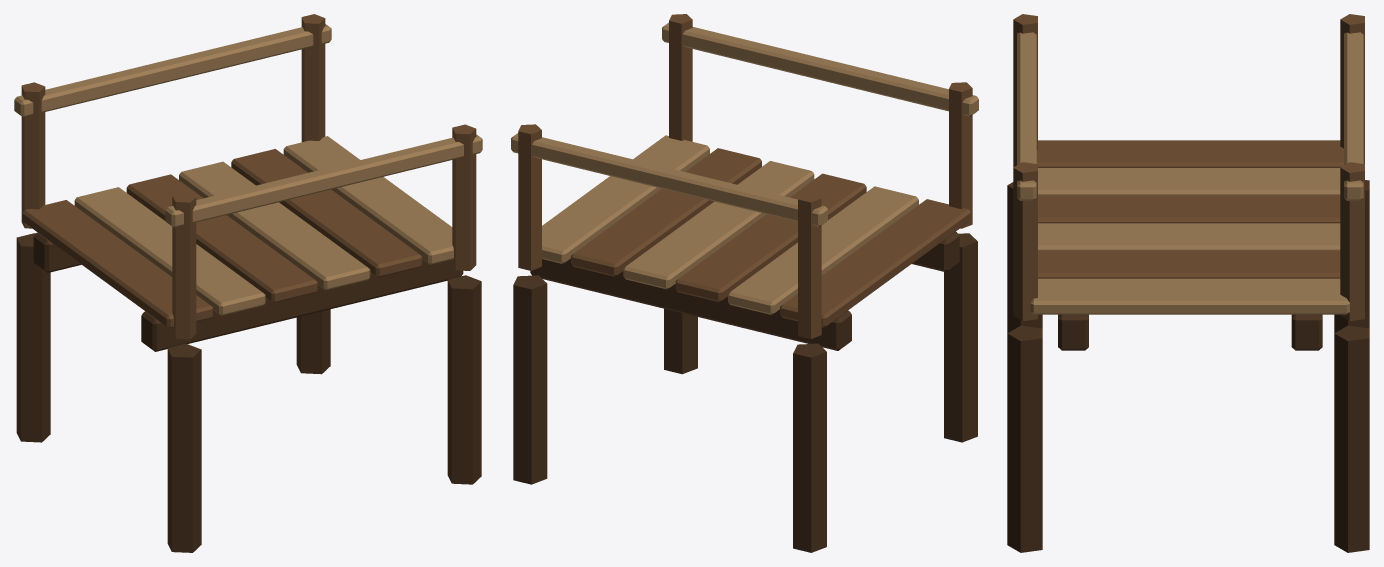
File: bridge.fbx
The picture shows the model from 3 angles, left to right: view 1: azimuth 30°, elevation 25°; view 2: azimuth 150°, elevation 25°; view 3: azimuth 270°, elevation 25°; orthographic projection. The views are drawn at different scales.
Parts seen in each view (by area): view 1: Prop; view 2: Prop; view 3: Prop.
Boxes of the visible parts, box(x1,y1,x2,y2) form: Prop: box(14, 14, 482, 552); Prop: box(511, 14, 978, 552); Prop: box(1007, 14, 1369, 552).
Size of the model in its own units: 1 by 0.9305 by 1.07.
